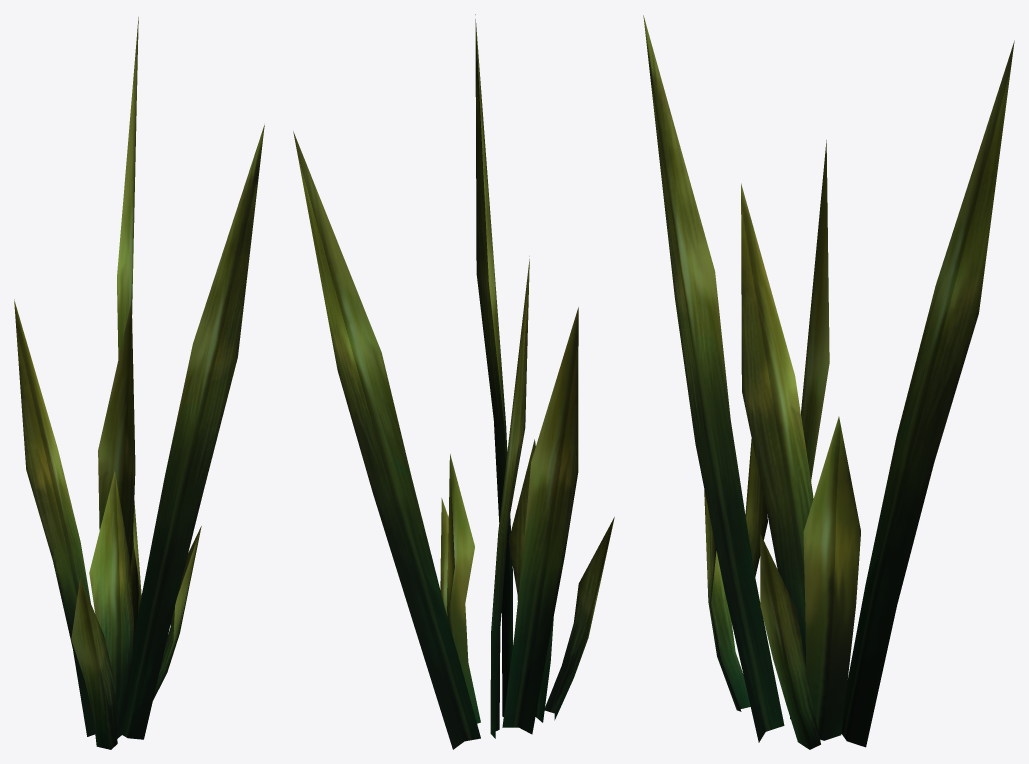
Rendered from Grass.FBX.
The picture shows the model from 3 angles, left to right: view 1: azimuth 30°, elevation 25°; view 2: azimuth 150°, elevation 25°; view 3: azimuth 270°, elevation 25°; orthographic projection. The views are drawn at different scales.
Parts seen in each view (by area): view 1: Plane001; view 2: Plane001; view 3: Plane001.
Boxes of the visible parts, box(x1,y1,x2,y2) form: Plane001: box(14, 17, 264, 749); Plane001: box(293, 14, 614, 749); Plane001: box(643, 15, 1014, 749).
Bounding box in the file's own units: 136 × 177 × 408.
